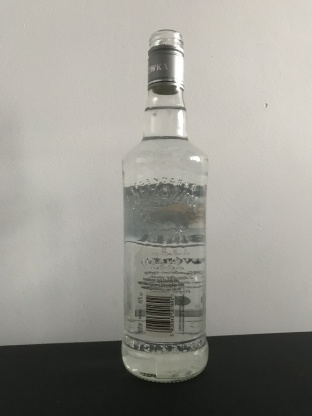nakretka: (145, 26, 186, 96)
